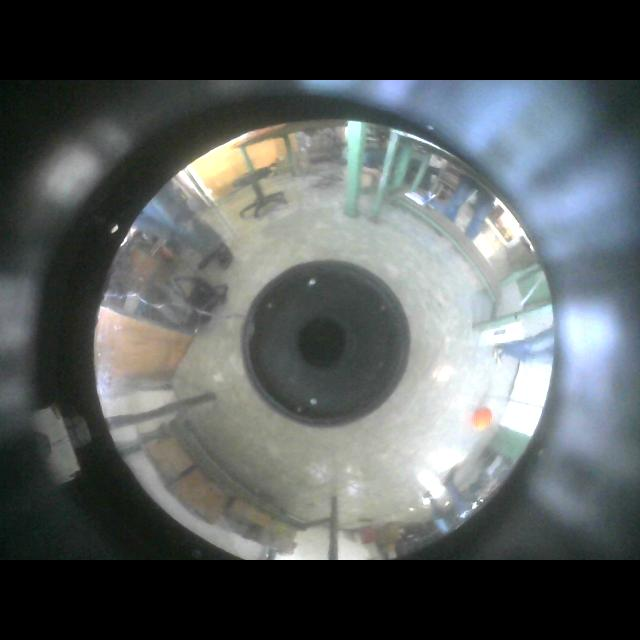bola: (473, 407, 492, 428)
